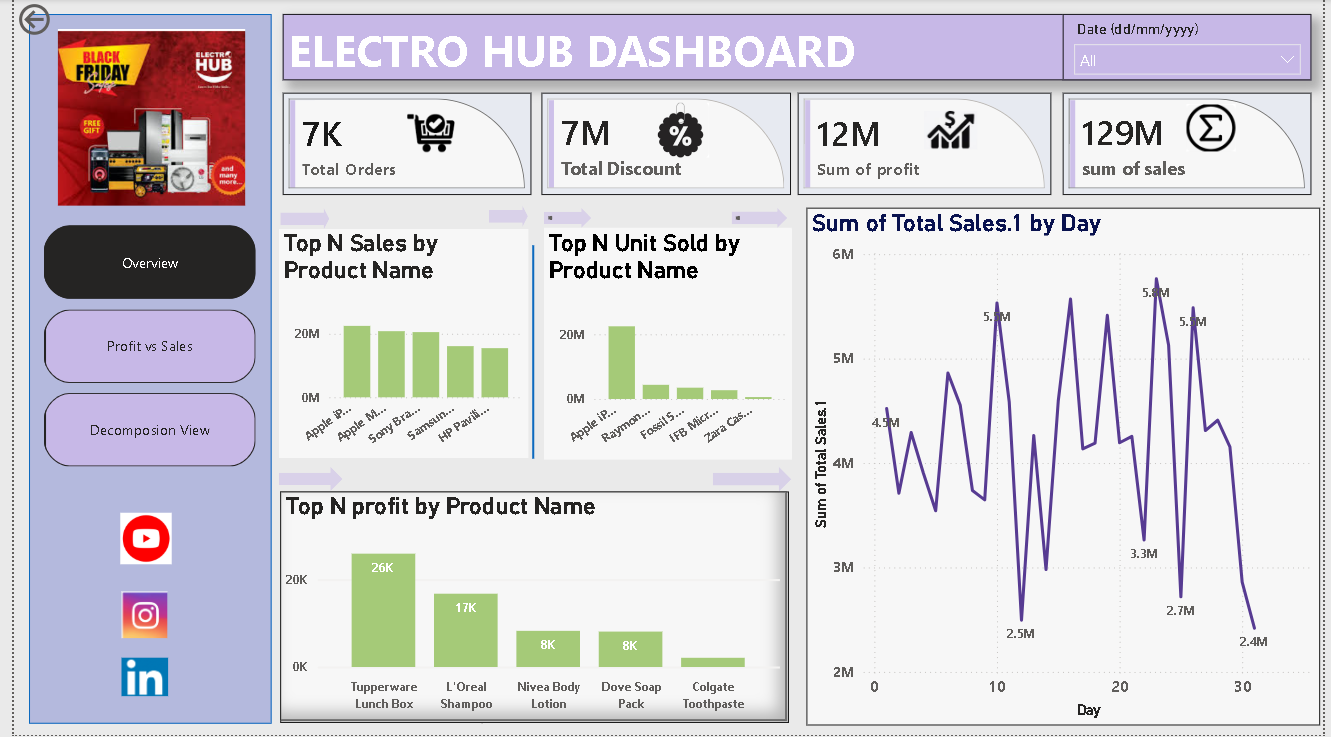

This screenshot's page, from the dashboard's own definition file:
{"tool":"powerbi","page":{"name":"Overview","canvas":[1280,720],"ordinal":0},"visuals":[{"type":"textbox","box":[263.5,15.1,1005.8,64.5],"z":0},{"type":"shape","box":[15.1,15.1,237.4,694.3],"z":1000},{"type":"cardVisual","fields":{"Data":["Table.Total Orders"]},"box":[262.9,91.7,243.3,100.3],"z":2000},{"type":"cardVisual","fields":{"Data":["Table.Total Discount"]},"box":[516,91.9,244.3,100.2],"z":3000},{"type":"cardVisual","fields":{"Data":["Table.Sum of profit"]},"box":[766.7,91.7,248.2,100.3],"z":4000},{"type":"cardVisual","fields":{"Data":["Table.sum of sales"]},"box":[1026,91.7,243.3,100.3],"z":5000},{"type":"slicer","fields":{"Values":["FACT-TABLE.Date (dd/mm/yyyy)"]},"box":[1026,14.7,243.3,64.8],"z":6000},{"type":"lineChart","fields":{"Category":["FACT-TABLE.Date (dd/mm/yyyy).Variation.Date Hierarchy.Year","FACT-TABLE.Date (dd/mm/yyyy).Variation.Date Hierarchy.Quarter","FACT-TABLE.Date (dd/mm/yyyy).Variation.Date Hierarchy.Month","FACT-TABLE.Date (dd/mm/yyyy).Variation.Date Hierarchy.Day"],"Y":["Sum(FACT-TABLE.Total Sales.1)"]},"box":[775.3,204.2,502.6,506.3],"z":7000},{"type":"shape","box":[258.7,240.4,497.4,208.9],"z":8000},{"type":"clusteredColumnChart","title":"Top N Sales by Product Name","fields":{"Category":["Dim Product.Product Name"],"Y":["Sum(FACT-TABLE.Total Sales.1)"]},"box":[258.7,225.5,243.7,223.8],"z":9000},{"type":"clusteredColumnChart","title":"Bottom N  Unit Sold by Product Name","fields":{"Category":["Dim Product.Product Name"],"Y":["Sum(FACT-TABLE.Total Sales.1)"]},"box":[519,223.8,242.1,225.5],"z":10000},{"type":"pageNavigator","box":[28.8,220.9,207.2,236],"z":11000},{"type":"actionButton","box":[0,0,100,40],"z":12000},{"type":"image","box":[101.5,502.2,54.9,50.8],"z":13000},{"type":"clusteredColumnChart","title":"Bottom N profit by Product Name","fields":{"Y":["Table.Sum of profit"],"Category":["Dim Product.Product Name"]},"box":[260.3,482,497.9,226.3],"z":14000},{"type":"image","box":[105.7,579.1,45.3,45.3],"z":15000},{"type":"image","box":[105.7,642.2,45.3,42.5],"z":16000},{"type":"image","box":[29.8,29.8,210.6,172.4],"z":17000},{"type":"image","box":[384.2,107,48,42.5],"z":18000},{"type":"image","box":[624.4,101.5,59,53.5],"z":19000},{"type":"image","box":[890.6,101.5,52.1,53.5],"z":20000},{"type":"image","box":[1147.2,102.9,48,46.7],"z":21000},{"type":"clusteredColumnChart","title":"Top N profit by Product Name","fields":{"Y":["Table.Sum of profit"],"Category":["Dim Product.Product Name"]},"box":[259.9,481.8,495.2,224.1],"z":22000},{"type":"clusteredColumnChart","title":"Top N  Unit Sold by Product Name","fields":{"Category":["Dim Product.Product Name"],"Y":["Sum(FACT-TABLE.Total Sales.1)"]},"box":[519,225.5,242.1,225.5],"z":24000},{"type":"actionButton","box":[399.6,699.7,64.7,9.9],"z":25000},{"type":"actionButton","box":[464.2,202.3,38.1,21.6],"z":26000},{"type":"actionButton","box":[260.3,203.9,48.1,21.6],"z":27000},{"type":"actionButton","box":[519,203.9,46.4,19.9],"z":28000},{"type":"actionButton","box":[701.3,203.9,54.7,19.9],"z":29000},{"type":"actionButton","box":[683.5,457.1,76.9,24.9],"z":30000},{"type":"actionButton","box":[259.7,457.2,62.3,24.2],"z":31000}]}

Visuals, with their boxes in screenshot pixels (x1, y1, x2, y2):
textbox: x1=284, y1=15, x2=1301, y2=80
shape: x1=33, y1=15, x2=273, y2=717
cardVisual - Table.Total Orders: x1=283, y1=93, x2=529, y2=194
cardVisual - Table.Total Discount: x1=539, y1=93, x2=786, y2=194
cardVisual - Table.Sum of profit: x1=793, y1=93, x2=1044, y2=194
cardVisual - Table.sum of sales: x1=1055, y1=93, x2=1301, y2=194
slicer - FACT-TABLE.Date (dd/mm/yyyy): x1=1055, y1=15, x2=1301, y2=80
lineChart - FACT-TABLE.Date (dd/mm/yyyy).Variation.Date Hierarchy.Year x FACT-TABLE.Date (dd/mm/yyyy).Variation.Date Hierarchy.Quarter: x1=801, y1=206, x2=1310, y2=718
shape: x1=279, y1=243, x2=782, y2=454
"Top N Sales by Product Name" clusteredColumnChart: x1=279, y1=228, x2=525, y2=454
"Bottom N  Unit Sold by Product Name" clusteredColumnChart: x1=542, y1=226, x2=787, y2=454
pageNavigator: x1=46, y1=223, x2=256, y2=462
actionButton: x1=17, y1=0, x2=118, y2=40
image: x1=120, y1=508, x2=175, y2=559
"Bottom N profit by Product Name" clusteredColumnChart: x1=281, y1=487, x2=784, y2=716
image: x1=124, y1=586, x2=170, y2=631
image: x1=124, y1=649, x2=170, y2=692
image: x1=47, y1=30, x2=260, y2=204
image: x1=406, y1=108, x2=454, y2=151
image: x1=649, y1=103, x2=708, y2=157
image: x1=918, y1=103, x2=971, y2=157
image: x1=1177, y1=104, x2=1226, y2=151
"Top N profit by Product Name" clusteredColumnChart: x1=280, y1=487, x2=781, y2=714
"Top N  Unit Sold by Product Name" clusteredColumnChart: x1=542, y1=228, x2=787, y2=456
actionButton: x1=421, y1=708, x2=487, y2=718
actionButton: x1=487, y1=205, x2=525, y2=226
actionButton: x1=281, y1=206, x2=329, y2=228
actionButton: x1=542, y1=206, x2=589, y2=226
actionButton: x1=727, y1=206, x2=782, y2=226
actionButton: x1=709, y1=462, x2=786, y2=487
actionButton: x1=280, y1=462, x2=343, y2=487
